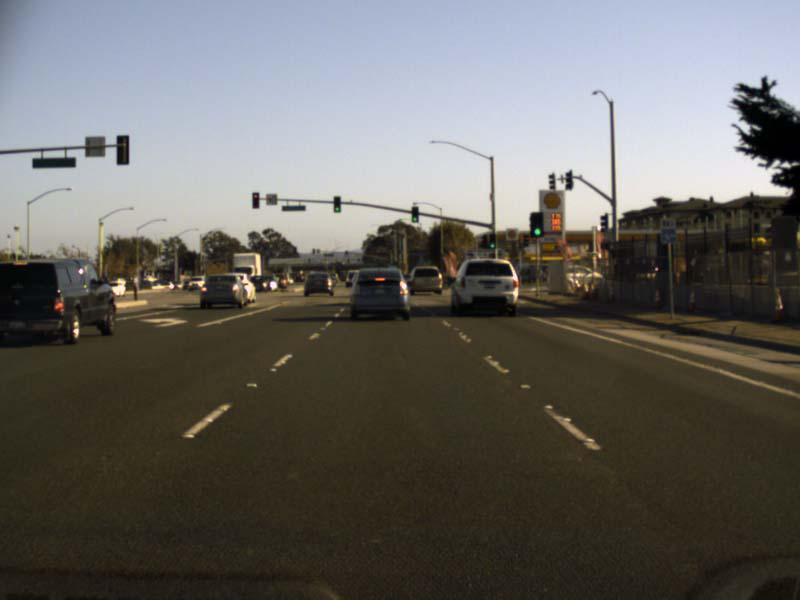Green: (530, 212, 544, 237), (333, 195, 340, 213), (411, 205, 418, 223), (489, 233, 496, 248), (344, 251, 347, 256)
Red: (251, 192, 259, 208)
